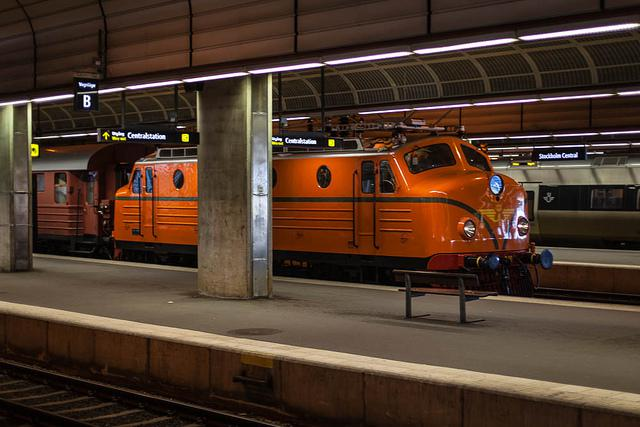Train: (35, 136, 551, 295)
